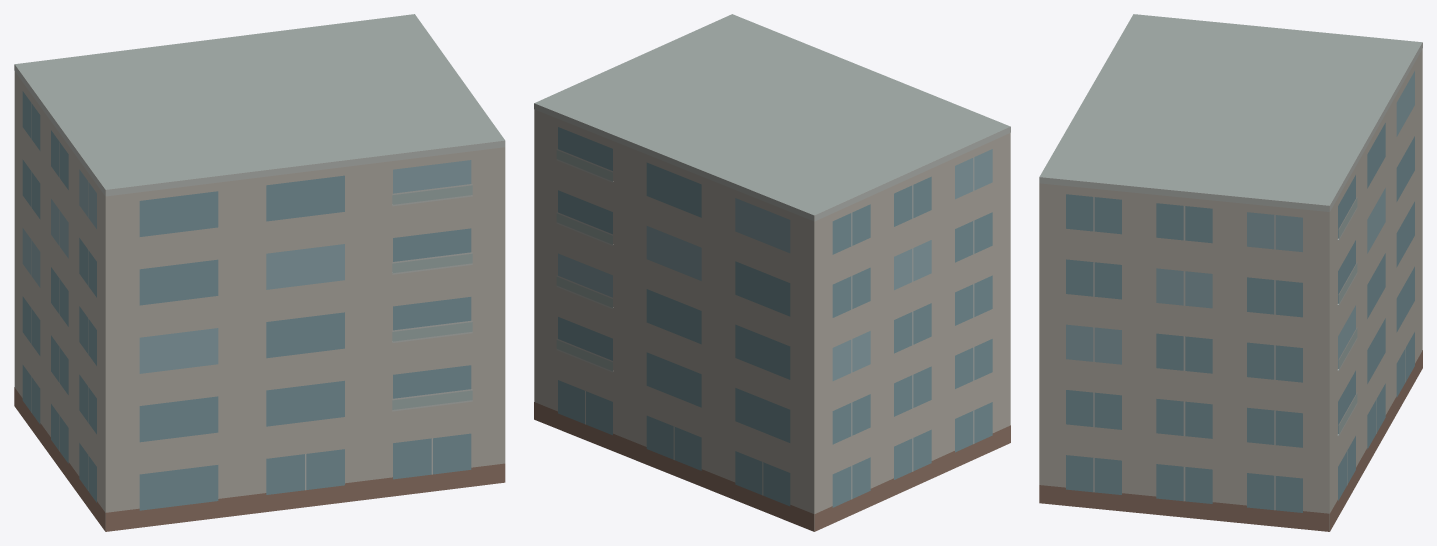
File: survey-upis-32583999.glb
The picture shows the model from 3 angles, left to right: view 1: azimuth 30°, elevation 25°; view 2: azimuth 150°, elevation 25°; view 3: azimuth 270°, elevation 25°; orthographic projection. The views are drawn at different scales.
Visible parts, largest first — view 1: survey-upis-32583999.tmp; view 2: survey-upis-32583999.tmp; view 3: survey-upis-32583999.tmp.
Part boxes in pixels (x1=…): survey-upis-32583999.tmp: x1=14, y1=14, x2=505, y2=531; survey-upis-32583999.tmp: x1=534, y1=14, x2=1010, y2=531; survey-upis-32583999.tmp: x1=1039, y1=14, x2=1422, y2=531.
Bounding box in the file's own units: 16.03 × 12.7 × 13.54.
